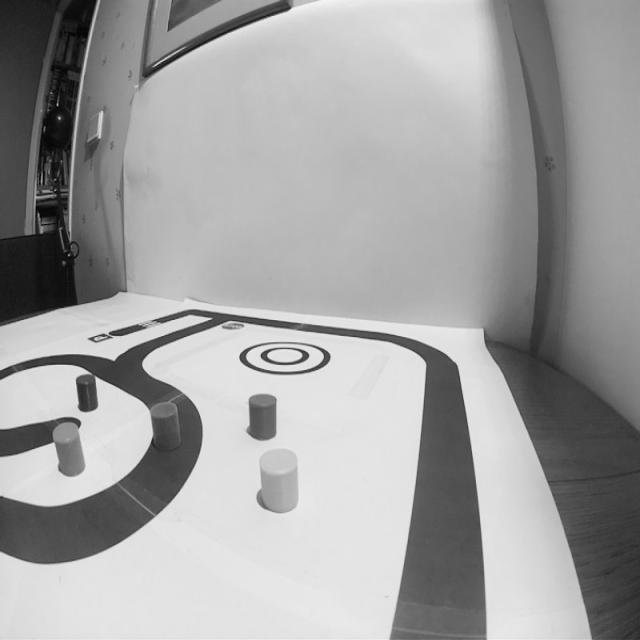cockade: (236, 337, 334, 379)
cylinder: (258, 444, 303, 520), (148, 398, 184, 455), (52, 421, 87, 479), (246, 390, 278, 442), (74, 372, 100, 414)
lineStraight: (371, 515, 502, 640)
